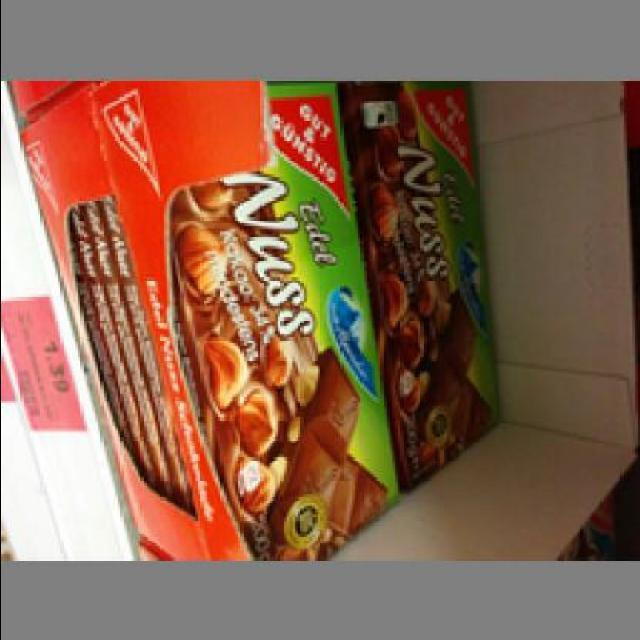Chocolate bar: (176, 80, 392, 557), (349, 77, 500, 489)
